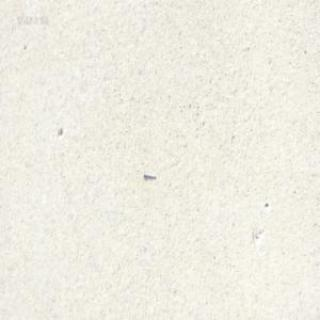Nailtrack_idkeyframe: (141, 170, 155, 177)
